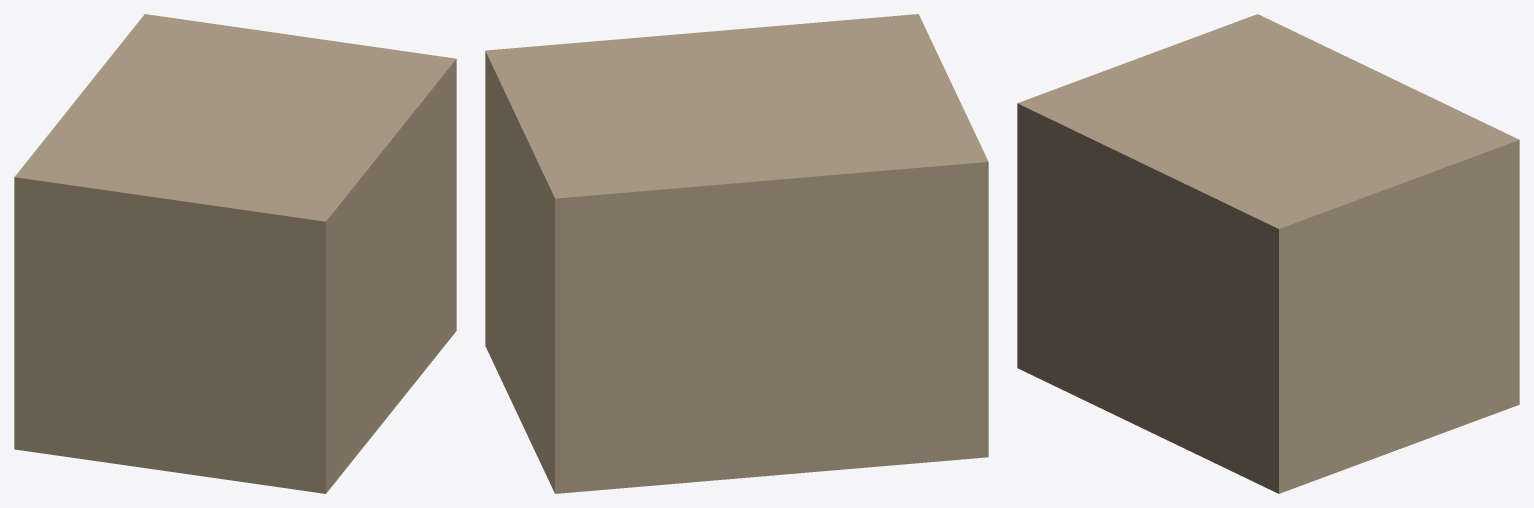
File: bld_106306775.dae
The picture shows the model from 3 angles, left to right: view 1: azimuth 30°, elevation 25°; view 2: azimuth 150°, elevation 25°; view 3: azimuth 270°, elevation 25°; orthographic projection. The views are drawn at different scales.
Visible parts, largest first — view 1: bld_106306775; view 2: bld_106306775; view 3: bld_106306775.
Boxes of the visible parts, x1=… form: bld_106306775: x1=14, y1=14, x2=456, y2=493; bld_106306775: x1=485, y1=14, x2=988, y2=493; bld_106306775: x1=1017, y1=14, x2=1519, y2=493.
Size of the model in its own units: 13.93 by 13.75 by 8.
